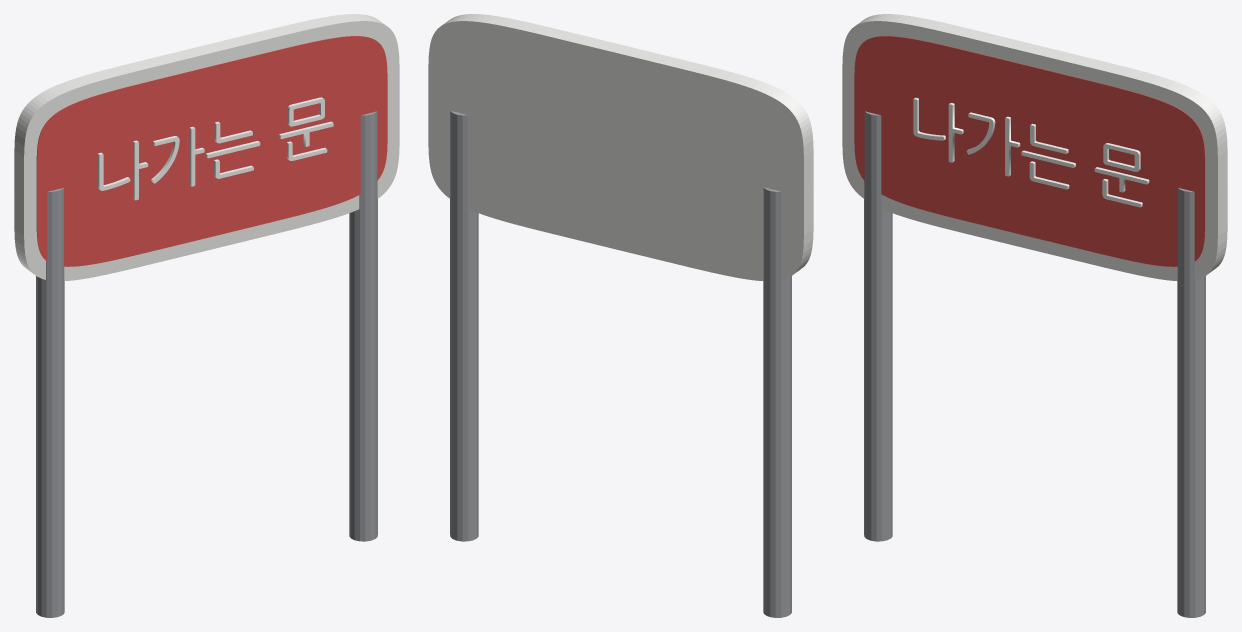
Rendered from ExitSign.fbx.
The picture shows the model from 3 angles, left to right: view 1: azimuth 30°, elevation 25°; view 2: azimuth 150°, elevation 25°; view 3: azimuth 330°, elevation 25°; orthographic projection.
Visible parts, largest first — view 1: ExitSign; view 2: ExitSign; view 3: ExitSign.
Boxes of the visible parts, box(x1,y1,x2,y2) form: ExitSign: box(14, 14, 399, 617); ExitSign: box(428, 14, 813, 617); ExitSign: box(842, 14, 1227, 617).
Bounding box in the file's own units: 180 × 240 × 12.
